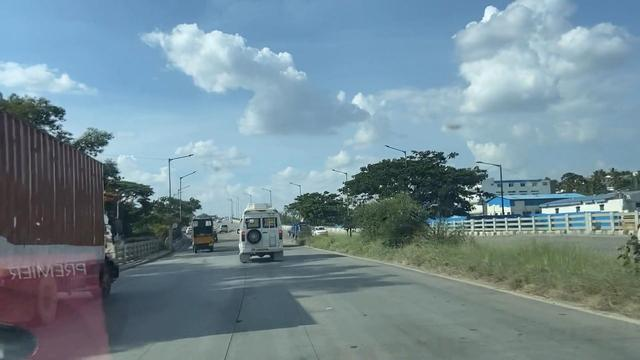HMV: (0, 107, 119, 317), (240, 197, 280, 262), (189, 211, 217, 254)
